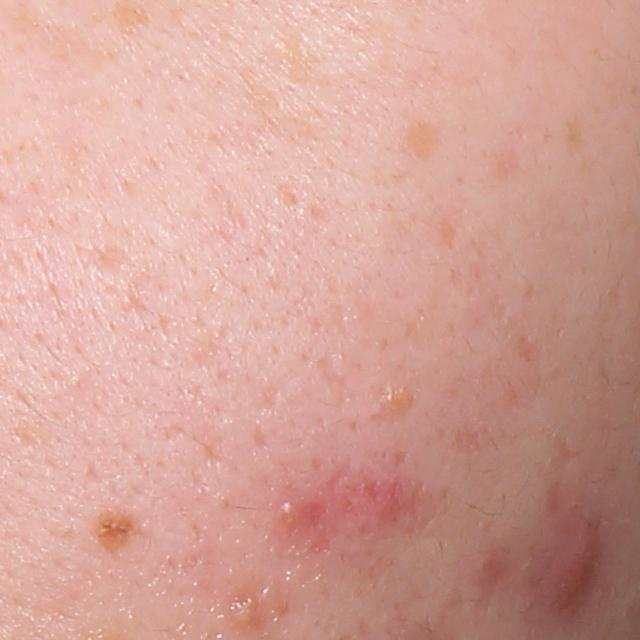atrophic_scar: (305, 349, 357, 404), (254, 387, 282, 415), (249, 425, 277, 451)
comedo: (378, 386, 421, 419)
melasma: (238, 63, 322, 142), (262, 27, 331, 87), (81, 508, 138, 559), (563, 117, 591, 173), (411, 120, 444, 156)
papule: (536, 521, 618, 622)
